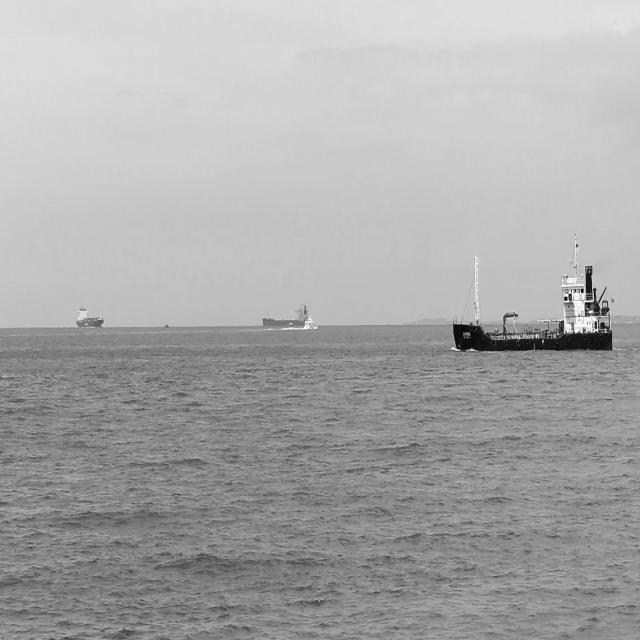ship: (450, 230, 616, 354), (259, 298, 310, 332), (75, 301, 106, 329), (302, 312, 316, 332)
